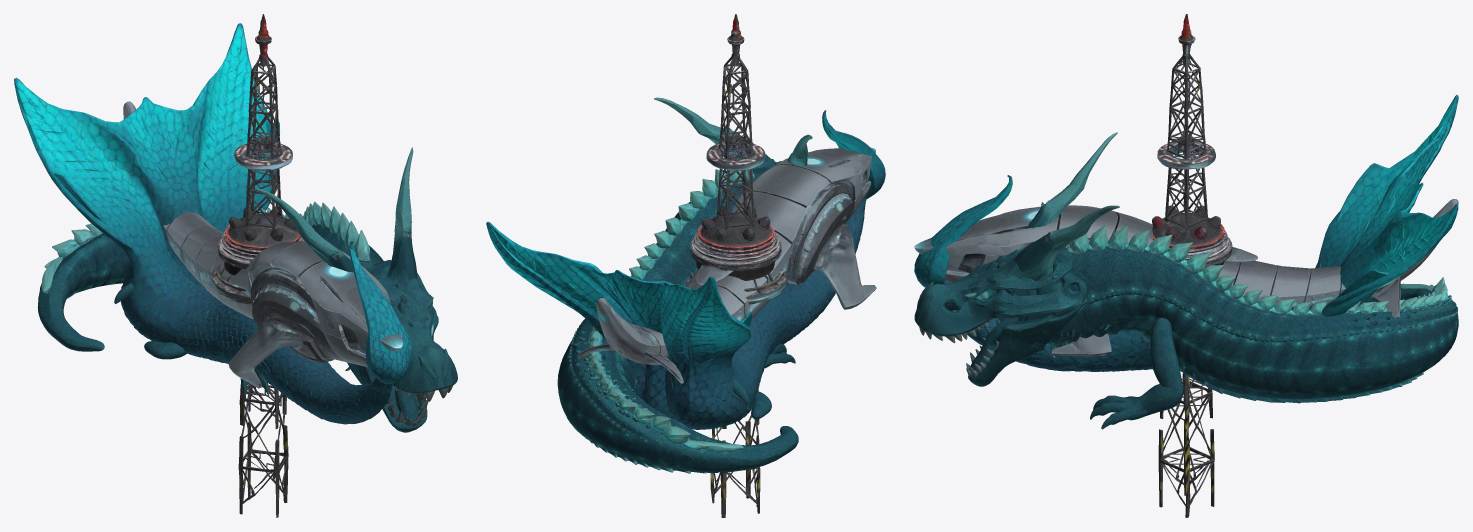
Rendered from mx_raid_all.glb.
3 renders of one model, left to right at view 1: azimuth 30°, elevation 25°; view 2: azimuth 150°, elevation 25°; view 3: azimuth 270°, elevation 25°, orthographic.
Visible parts, largest first — view 1: rd_lev_tail, rd_lev_head, rd_eel, rd_rod; view 2: rd_lev_tail, rd_lev_head, rd_eel, rd_rod; view 3: rd_lev_head, rd_lev_tail, rd_eel, rd_rod.
Part boxes in pixels (x1=…): rd_lev_tail: x1=14, y1=23, x2=412, y2=424; rd_lev_head: x1=37, y1=147, x2=457, y2=432; rd_eel: x1=123, y1=101, x2=402, y2=388; rd_rod: x1=212, y1=14, x2=304, y2=517; rd_lev_tail: x1=486, y1=110, x2=885, y2=429; rd_lev_head: x1=557, y1=97, x2=812, y2=473; rd_eel: x1=577, y1=147, x2=876, y2=383; rd_rod: x1=685, y1=14, x2=787, y2=517; rd_lev_head: x1=914, y1=132, x2=1458, y2=429; rd_lev_tail: x1=914, y1=95, x2=1458, y2=371; rd_eel: x1=914, y1=199, x2=1458, y2=356; rd_rod: x1=1151, y1=14, x2=1233, y2=517.
Size of the model in its own units: 1.04 by 1.9 by 1.9.
4 materials, 4 textured.
